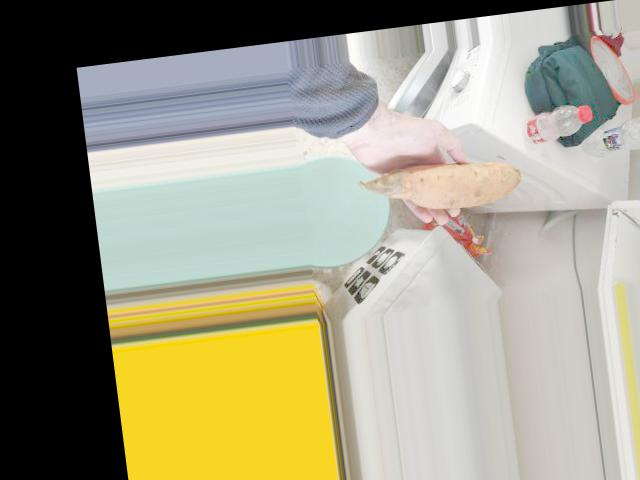sweet_potato: (364, 150, 523, 218)
